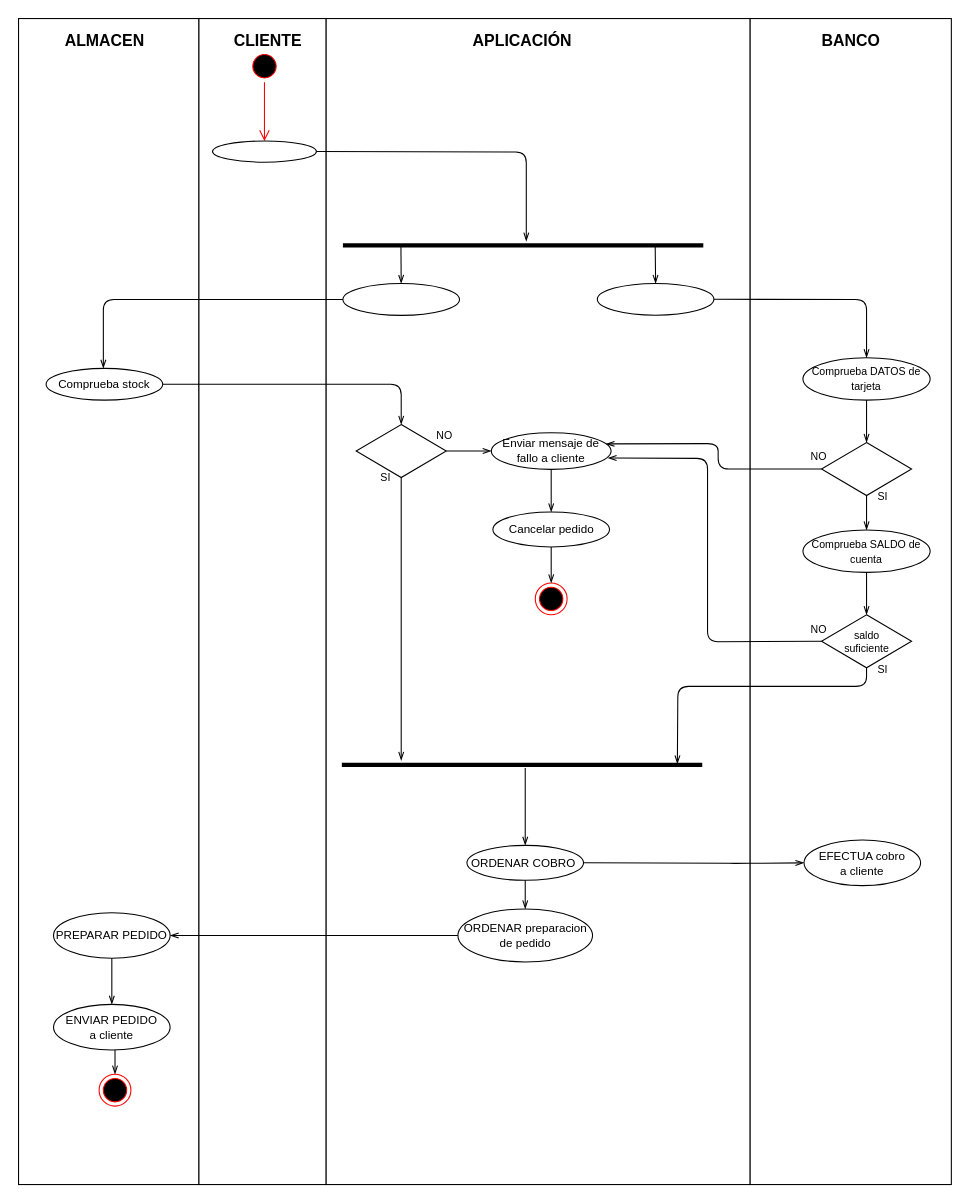
Some shapes in this 970 by 1203 pixel diagram are drawn without their labels. Each missing label, with the box of its shape:
CORRECTOS: (820, 441, 912, 496)
Enviar datos de PEDIDO: (342, 282, 460, 315)
Enviar datos de TARJETA: (596, 282, 714, 315)
HAY STOCK: (355, 423, 446, 478)
REALIZA PEDIDO: (211, 140, 316, 162)
